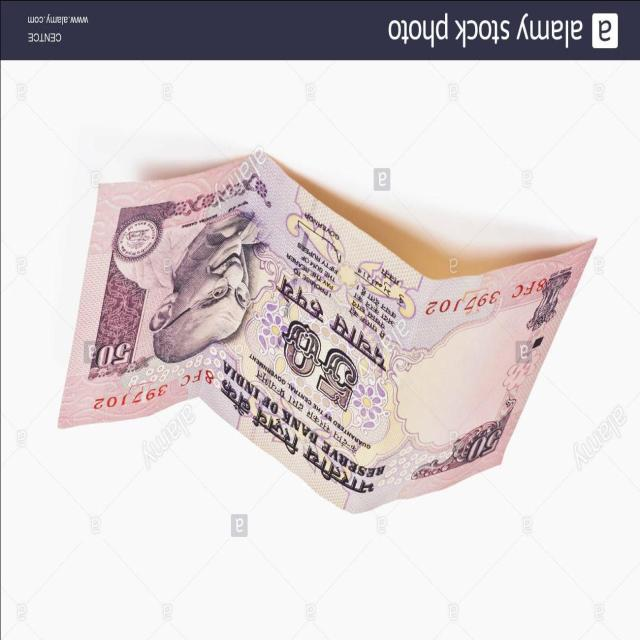50IndianRupees: (57, 174, 597, 512)
